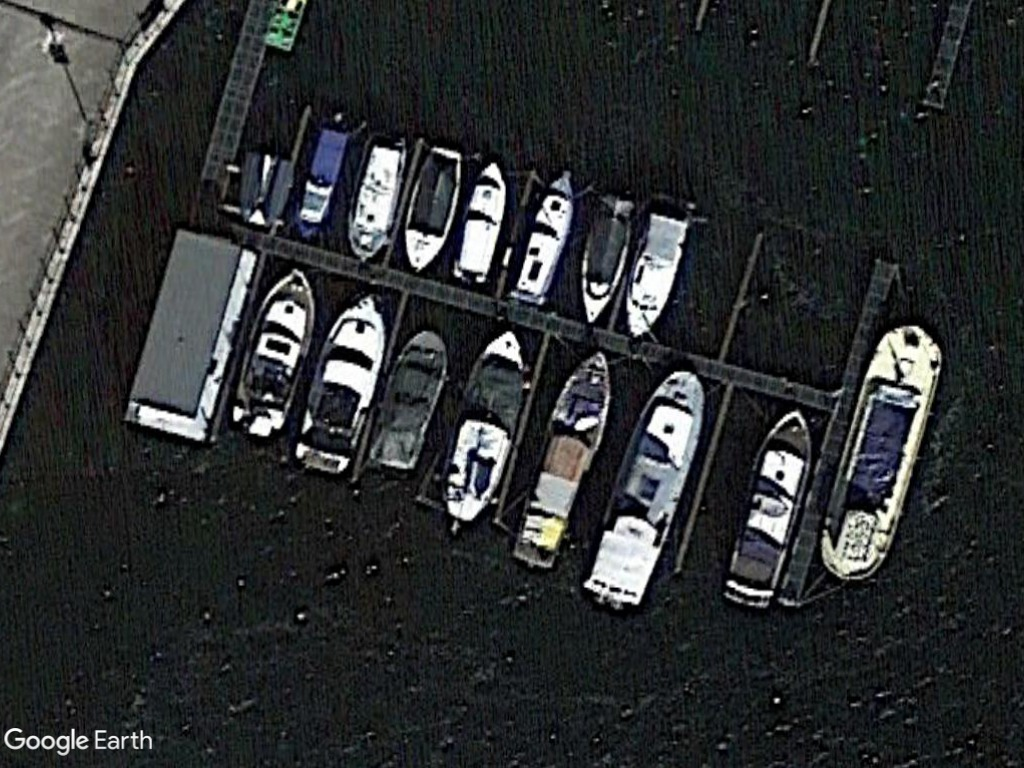boat: (811, 315, 950, 596), (566, 360, 712, 617), (508, 341, 618, 571), (720, 401, 824, 627), (439, 321, 533, 534), (288, 287, 389, 473), (223, 261, 319, 447), (361, 326, 451, 474), (507, 165, 582, 308), (569, 186, 641, 330), (619, 208, 694, 342), (289, 110, 363, 245), (400, 134, 468, 277), (447, 154, 512, 292), (346, 134, 411, 267)
